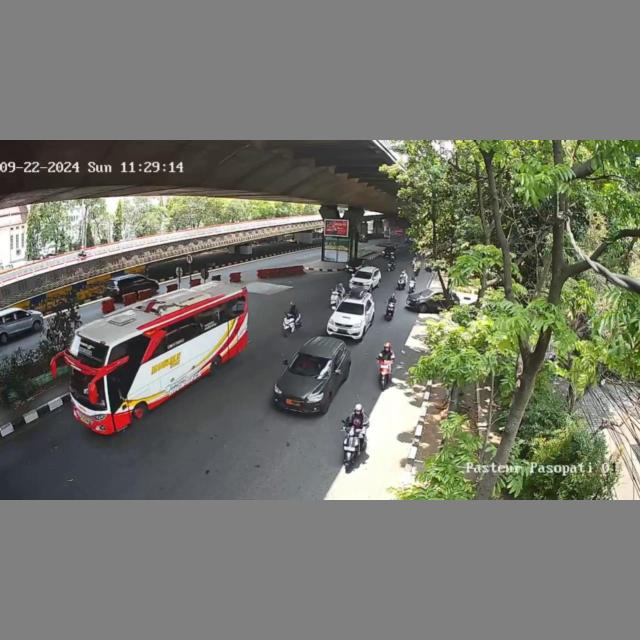windshield: (289, 351, 334, 382), (335, 301, 368, 316), (354, 270, 372, 280)
